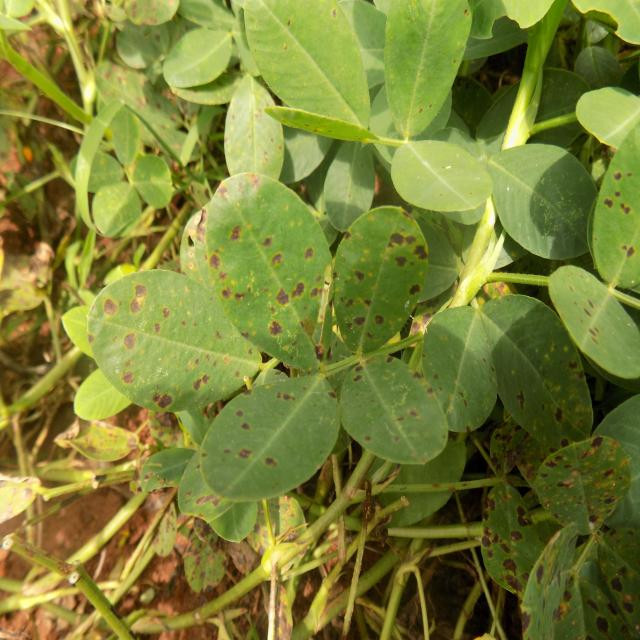Ground nut_tikka leaf spot: (199, 176, 359, 377), (476, 282, 615, 459), (88, 272, 270, 404), (187, 373, 347, 501), (328, 197, 431, 356), (339, 358, 447, 458)
